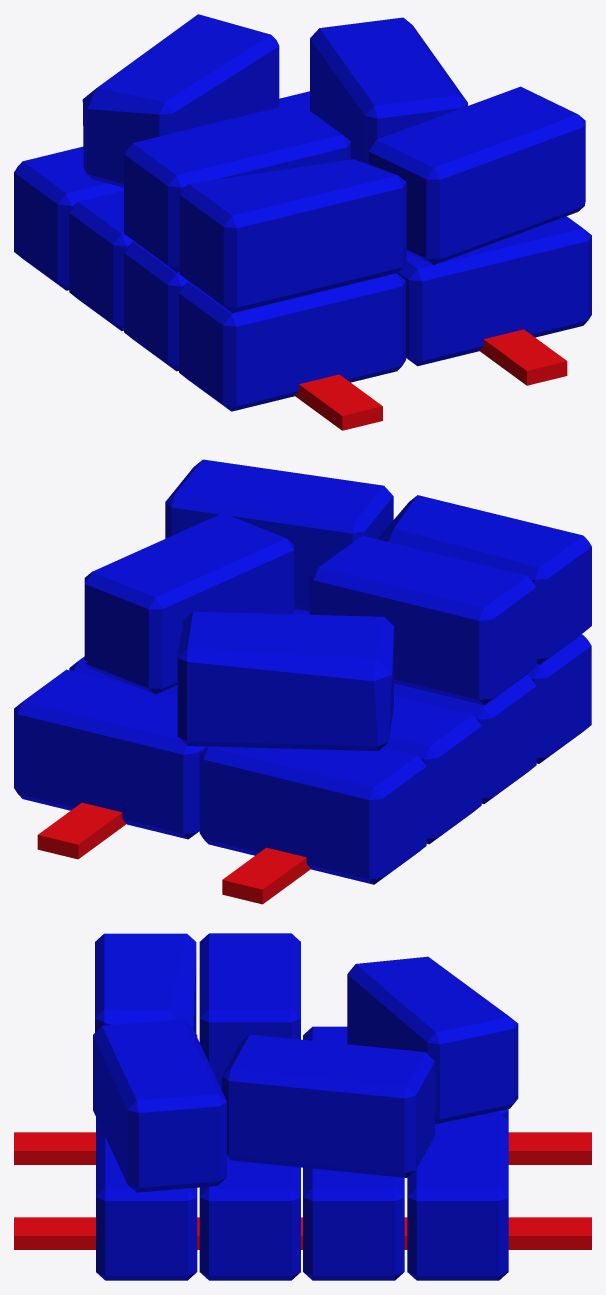
Rendered from SM_Small_QuarryStack3.fbx.
3 views of the same model, one above another, from view 1: azimuth 30°, elevation 25°; view 2: azimuth 150°, elevation 25°; view 3: azimuth 270°, elevation 25° (orthographic). The views are drawn at different scales.
Visible parts, largest first — view 1: SM_Small_QuarryStack3; view 2: SM_Small_QuarryStack3; view 3: SM_Small_QuarryStack3.
Boxes of the visible parts, x1,y1,x2,y2 form: SM_Small_QuarryStack3: (14, 14, 591, 430); SM_Small_QuarryStack3: (14, 459, 591, 904); SM_Small_QuarryStack3: (14, 933, 591, 1280).
Bounding box in the file's own units: 141 × 69.54 × 197.
